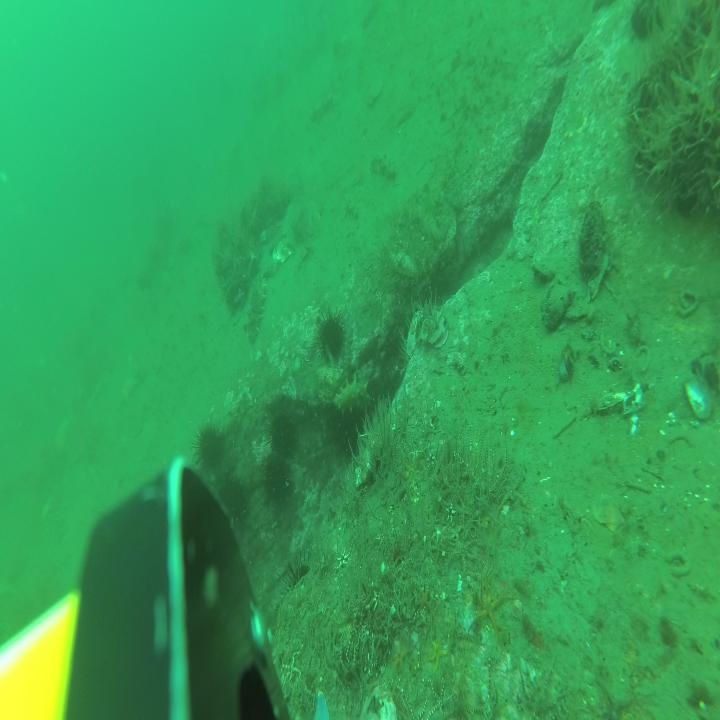echinus: (283, 550, 320, 614), (317, 305, 349, 369), (262, 454, 294, 514), (194, 424, 228, 474), (268, 412, 300, 464), (335, 403, 364, 460), (220, 474, 249, 526)
holothurian: (335, 376, 372, 419), (247, 272, 266, 347), (371, 150, 396, 184), (312, 95, 334, 125), (359, 0, 380, 30), (333, 34, 353, 59), (344, 196, 361, 222)
scallop: (593, 492, 624, 534), (272, 237, 292, 265), (365, 78, 382, 106)
starfish: (472, 578, 510, 634), (426, 632, 451, 672), (389, 639, 411, 677)
